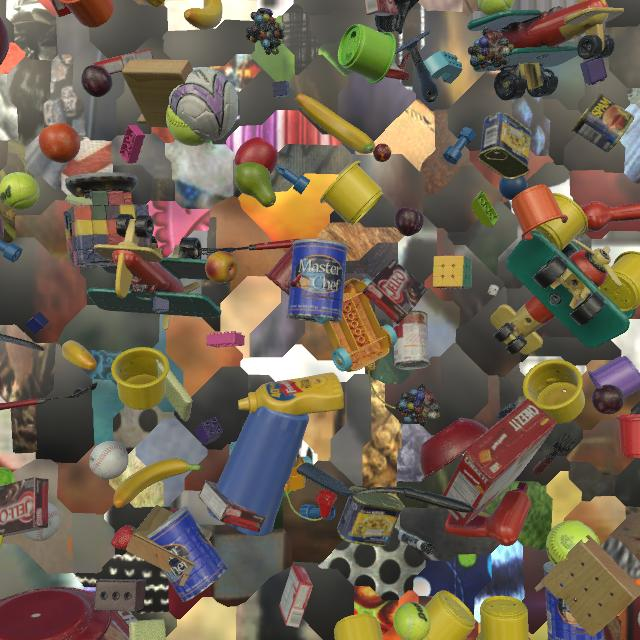ycb_002_master_chef_can: (146, 506, 228, 602), (287, 239, 348, 323), (544, 561, 604, 640)
ycb_003_cracker_box: (442, 399, 557, 527), (62, 611, 138, 640), (50, 0, 72, 17), (0, 376, 3, 388), (422, 604, 426, 607)
ycb_005_tomato_soup_can: (393, 310, 429, 370), (637, 611, 640, 626)
ycb_006_mustard_bottle: (238, 372, 344, 415), (142, 0, 165, 7)
ycb_008_pudding_box: (362, 259, 428, 324), (198, 480, 267, 532), (0, 477, 48, 537)
ycb_009_gelatin_box: (279, 565, 313, 628), (94, 49, 154, 75), (364, 0, 398, 16)
ycb_010_potted_meat_can: (337, 486, 404, 547), (571, 92, 634, 153), (478, 112, 531, 179)
ycb_011_banana: (295, 94, 376, 154), (113, 458, 202, 508), (184, 0, 223, 30), (62, 340, 97, 370)
ycb_012_strawberry: (111, 525, 137, 550)
ycb_013_apple: (235, 137, 278, 175)
ycb_015_peach: (205, 251, 239, 283)
ycb_016_pear: (234, 162, 276, 207)
ycb_017_orange: (39, 123, 81, 163)
ycb_018_plum: (81, 65, 113, 97), (592, 385, 624, 414), (395, 207, 424, 236)
